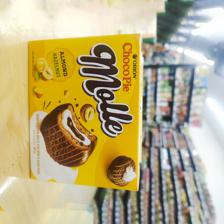Molle: (25, 32, 143, 192)
